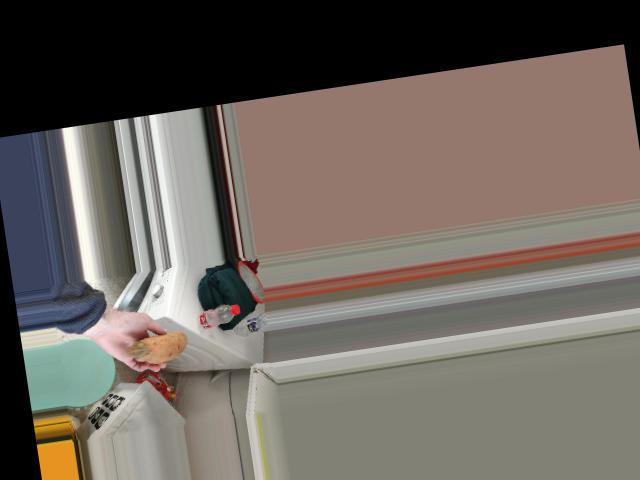sweet_potato: (132, 329, 203, 364)
